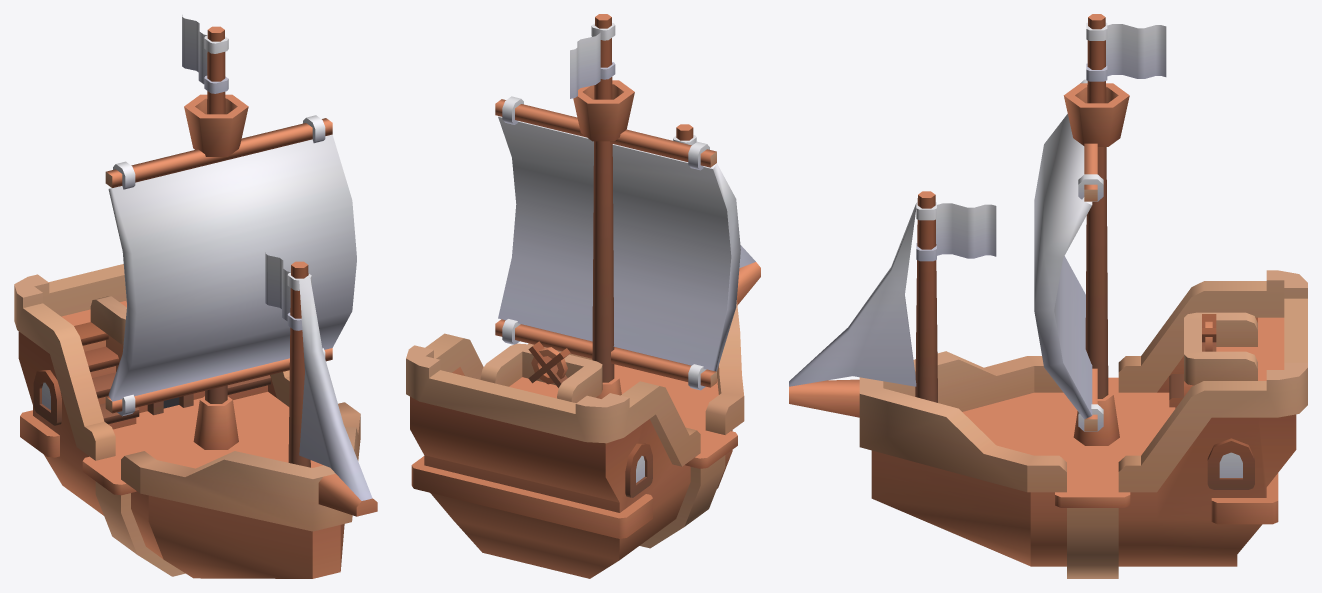
Rendered from galere.glb.
3 renders of one model, left to right at view 1: azimuth 30°, elevation 25°; view 2: azimuth 150°, elevation 25°; view 3: azimuth 270°, elevation 25°, orthographic. The views are drawn at different scales.
Visible parts, largest first — view 1: ship-small, sail-a, flag-b, flag-a; view 2: ship-small, sail-a, flag-b; view 3: ship-small, sail-a, flag-a, flag-b.
Part boxes in pixels (<box>): ship-small: <box>14,26,377,578</box>; sail-a: <box>105,115,356,416</box>; flag-b: <box>182,15,228,93</box>; flag-a: <box>265,252,311,330</box>; ship-small: <box>406,14,760,578</box>; sail-a: <box>495,96,740,390</box>; flag-b: <box>570,23,615,98</box>; ship-small: <box>789,14,1307,578</box>; sail-a: <box>1034,79,1103,431</box>; flag-a: <box>916,202,996,261</box>; flag-b: <box>1086,22,1166,81</box>.
Size of the model in its own units: 4.8 by 9.96 by 8.8.
Materials: 1 (1 with a texture image).
